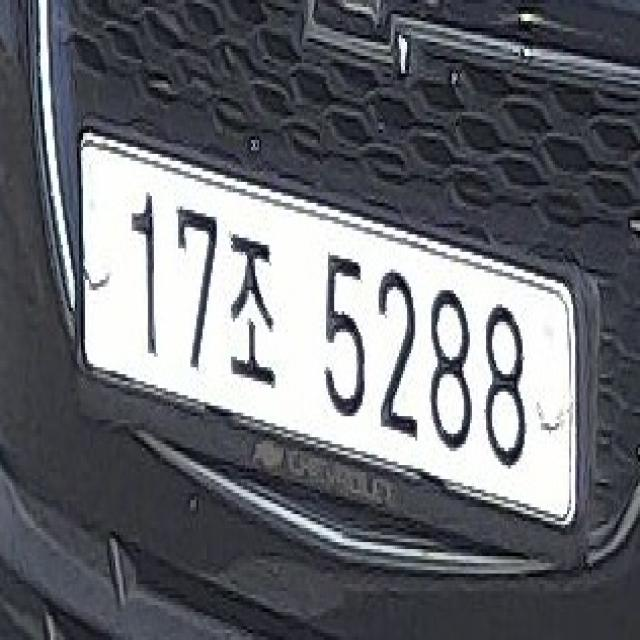1: (122, 175, 166, 371)
2: (371, 259, 423, 444)
5: (316, 231, 369, 430)
7: (170, 186, 219, 382)
8: (478, 294, 533, 479), (425, 276, 476, 465)
jo: (222, 220, 284, 399)
license_plate: (69, 98, 591, 556)
